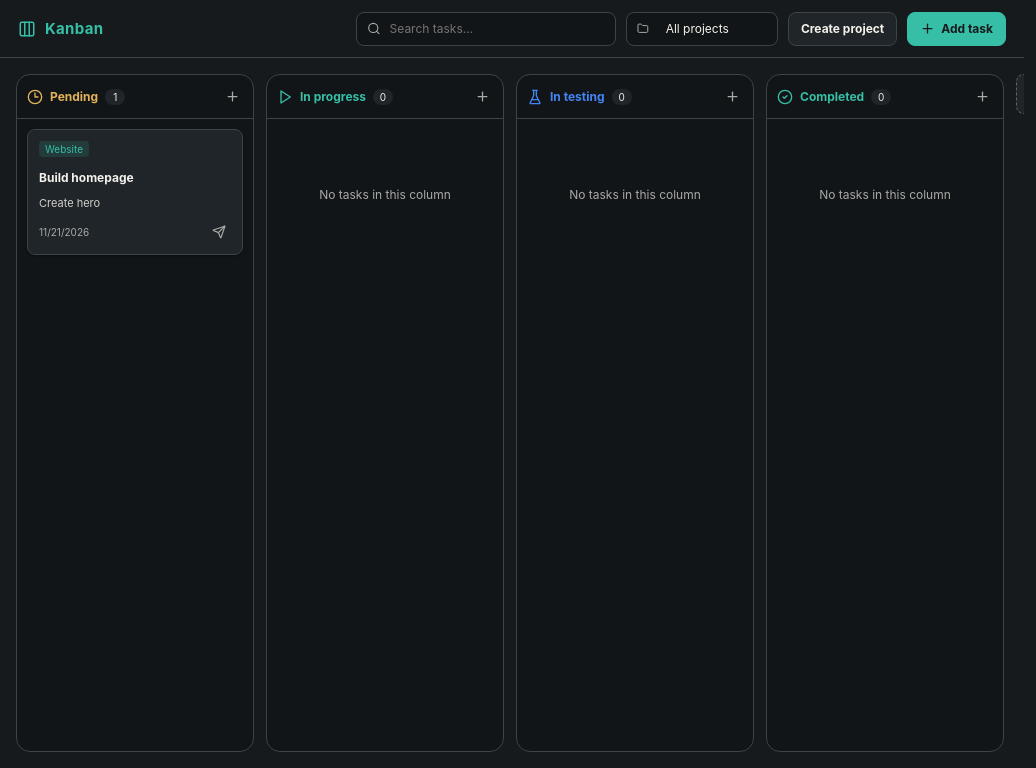
Kanban board › sends a card to a running agent terminal selected from its context menu
Right-click the button "Build homepage" at (135, 192), box [27,129,243,255]
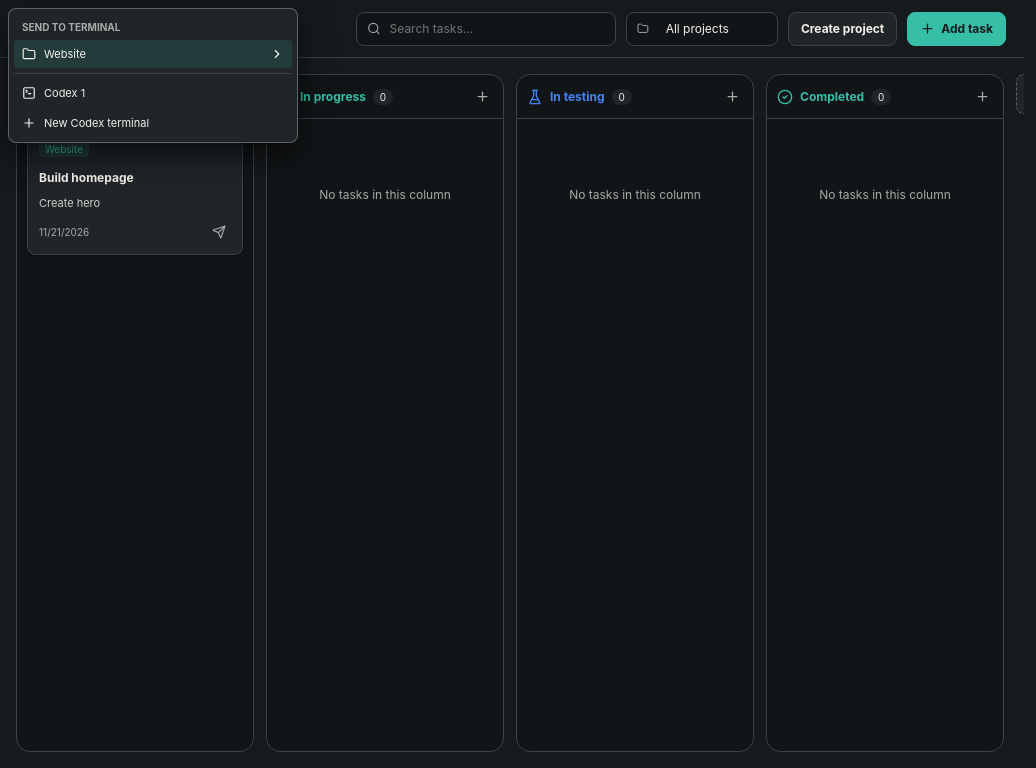
Click the button "Codex 1" at (65, 93), box [14,79,292,107]
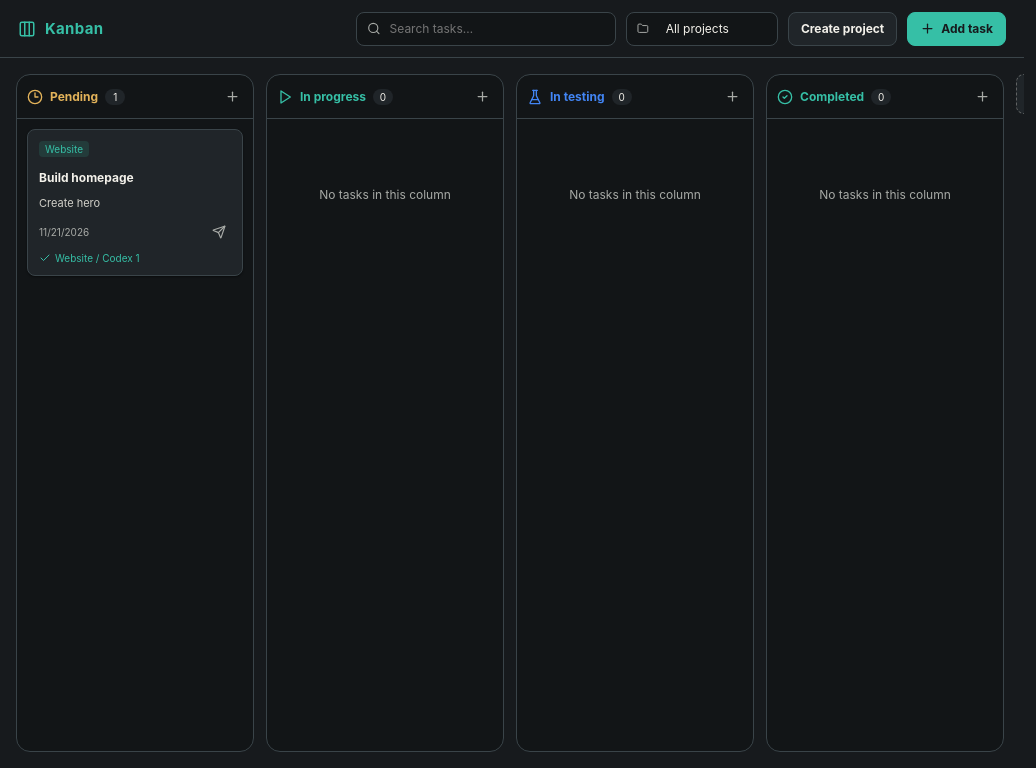
Expected: the element showing "Website / Codex 1" is shown, [39,252,140,264]
